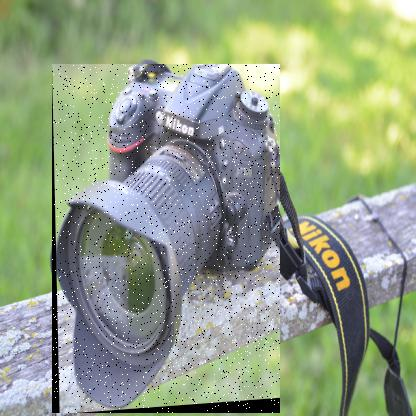Camera: (53, 65, 282, 415)
